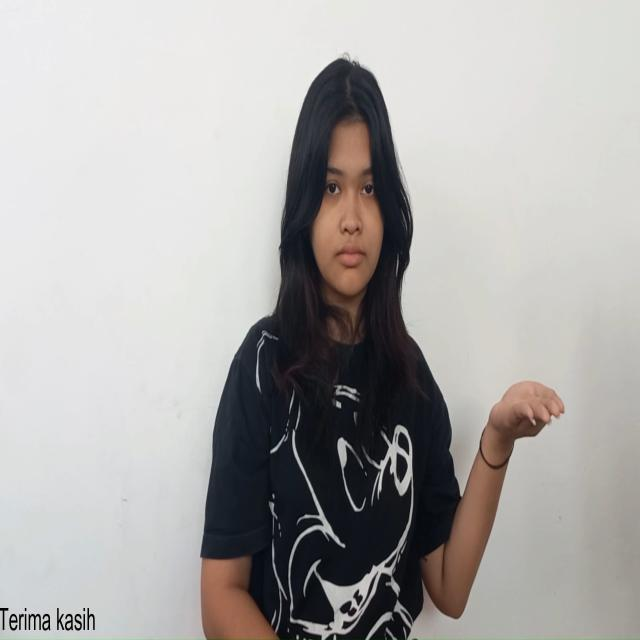Terima kasih -BISINDO-: (486, 377, 568, 448)
